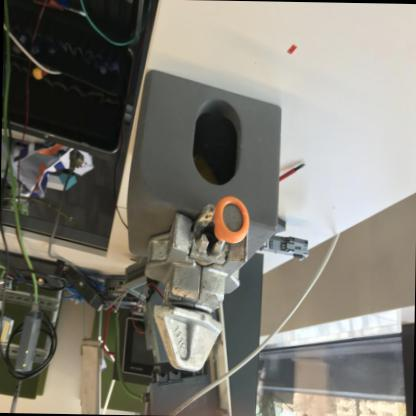CornerCasting: (123, 64, 288, 258)
Twistlock: (124, 194, 253, 376)
